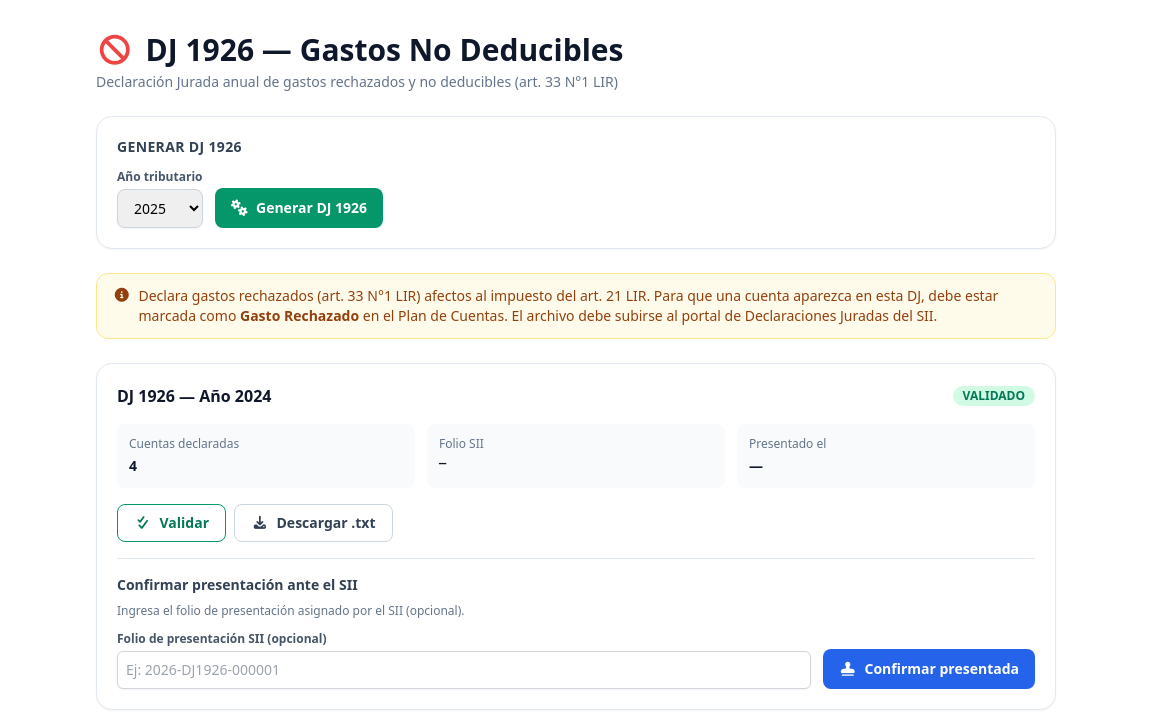
Test: Dj1926 (vista) › handleConfirmarPresentacion envía el folio y muestra mensaje de éxito
Type "2024-DJ1926-000001" into the field labelled "Folio de presentación SII (opcional)". click: point(464, 670)
box: [117,651,811,689]
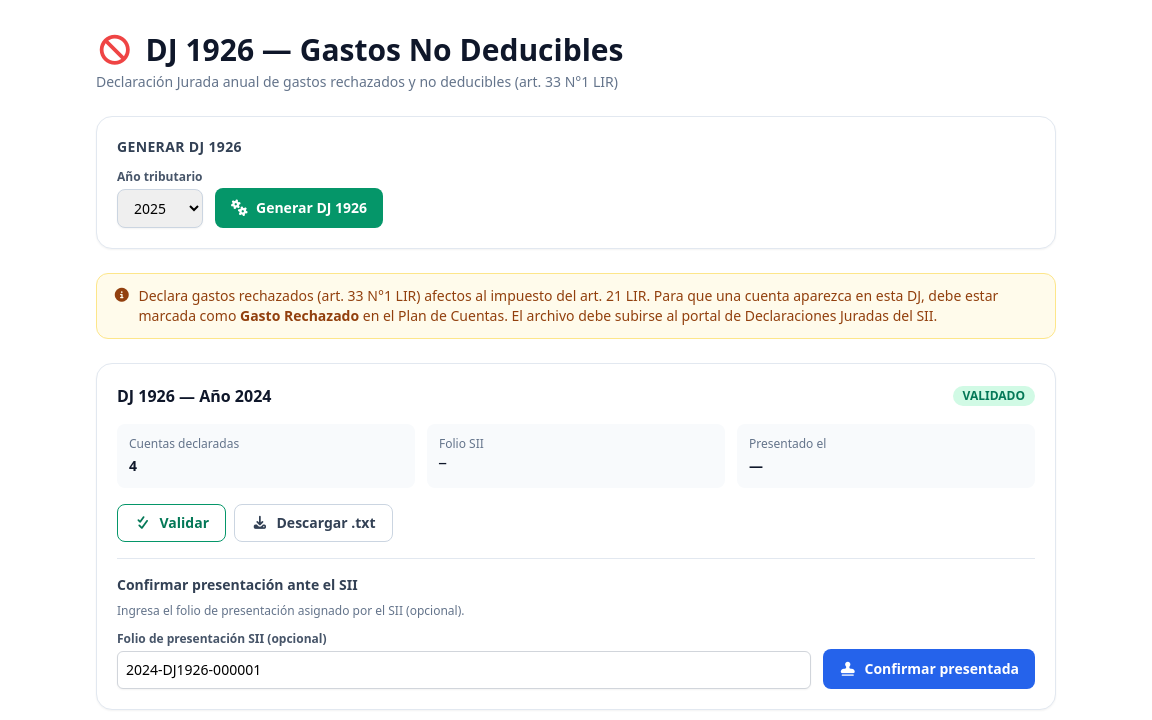
Click the button "Confirmar presentada". click: point(929, 669)
box: [823,649,1035,689]
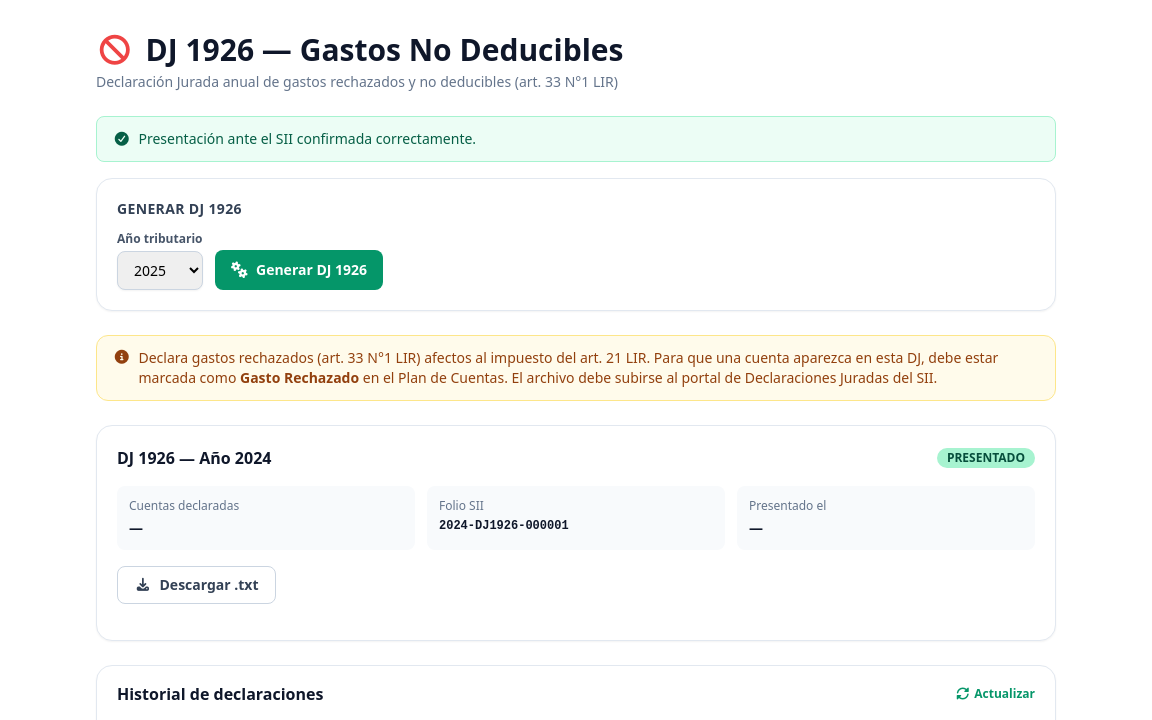
Check: the text "Presentación ante el SII confirmada correctamente." is shown, box [96,116,1056,162]
